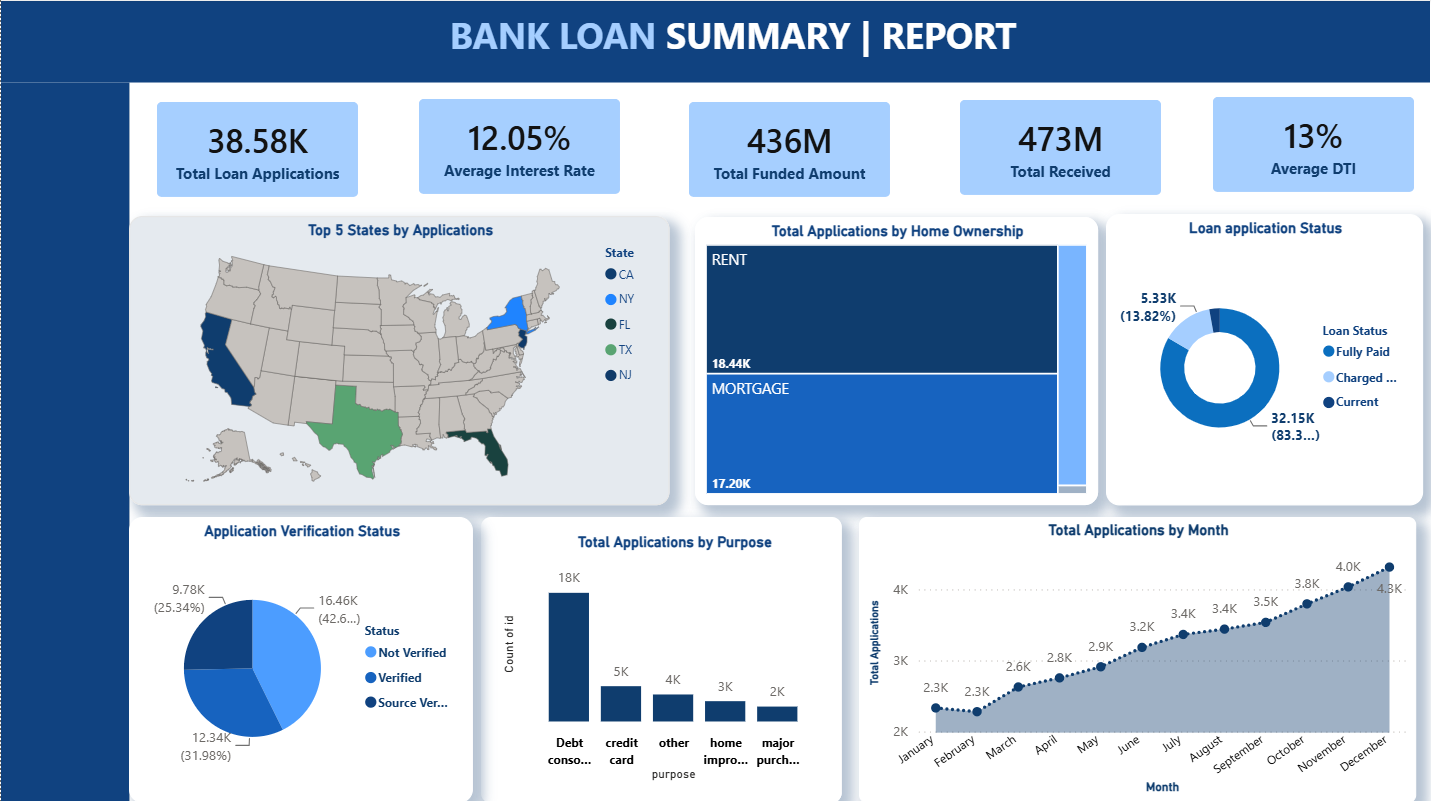

This screenshot's page, from the dashboard's own definition file:
{"tool":"powerbi","page":{"name":"Executive Dashboard","canvas":[1280,720],"ordinal":0},"visuals":[{"type":"shape","box":[0,72.5,114.6,647.5],"z":0},{"type":"shape","box":[0,1.8,1279.7,73.4],"z":1000},{"type":"cardVisual","fields":{"Data":["Count(financial loan data set.id)"]},"box":[122.7,75.2,214,119.1],"z":2000},{"type":"cardVisual","fields":{"Data":["Avg(financial loan data set.int_rate)"]},"box":[356.9,72.1,214,119],"z":3000},{"type":"cardVisual","fields":{"Data":["Sum(financial loan data set.loan_amount)"]},"box":[599.1,75.2,214,119],"z":4000},{"type":"cardVisual","fields":{"Data":["Sum(financial loan data set.total_payment)"]},"box":[841.3,73.7,214,119],"z":5000},{"type":"textbox","box":[278.5,4.5,763,69],"z":6000},{"type":"shapeMap","title":"Top 5 States by Applications","fields":{"Category":["financial loan data set.address_state"],"Value":["Count(financial loan data set.id)"],"Series":["financial loan data set.address_state"]},"box":[114.6,194.3,484.5,258.8],"z":7000},{"type":"treemap","title":"Total Applications by Home Ownership","fields":{"Group":["financial loan data set.home_ownership"],"Values":["CountNonNull(financial loan data set.id)"]},"box":[621.5,195.2,360.9,257.9],"z":8000},{"type":"columnChart","title":"Total Applications by Purpose ","fields":{"Y":["CountNonNull(financial loan data set.id)"],"Category":["financial loan data set.purpose"]},"box":[429.9,463.9,323.3,256.1],"z":9000},{"type":"donutChart","title":"Loan application Status ","fields":{"Category":["financial loan data set.loan_status"],"Y":["Count(financial loan data set.id)"]},"box":[989.6,192.5,283.9,260.6],"z":10000},{"type":"pieChart","title":"Application Verification Status ","fields":{"Y":["Count(financial loan data set.id)"],"Category":["financial loan data set.verification_status"]},"box":[114.6,463.9,308.1,256.1],"z":11000},{"type":"areaChart","title":"Total Applications by Month ","fields":{"Y":["Count(financial loan data set.id)"],"Category":["financial loan data set.issue_date.Variation.Date Hierarchy.Year","financial loan data set.issue_date.Variation.Date Hierarchy.Quarter","financial loan data set.issue_date.Variation.Date Hierarchy.Month","financial loan data set.issue_date.Variation.Date Hierarchy.Day"]},"box":[768.4,463.9,498.8,256.1],"z":12000},{"type":"cardVisual","fields":{"Data":["Avg(financial loan data set.dti)"]},"box":[1068,70.5,214,119],"z":13000}]}

Visuals, with their boxes in screenshot pixels (x1, y1, x2, y2), scaled from the page's 1280x720 canvas onto the 1431x801 screenshot:
shape: box(0, 81, 128, 800)
shape: box(0, 2, 1430, 84)
cardVisual - Count(financial loan data set.id): box(137, 84, 376, 216)
cardVisual - Avg(financial loan data set.int_rate): box(399, 80, 638, 213)
cardVisual - Sum(financial loan data set.loan_amount): box(670, 84, 909, 216)
cardVisual - Sum(financial loan data set.total_payment): box(941, 82, 1180, 214)
textbox: box(311, 5, 1164, 82)
"Top 5 States by Applications" shapeMap: box(128, 216, 670, 504)
"Total Applications by Home Ownership" treemap: box(695, 217, 1098, 504)
"Total Applications by Purpose " columnChart: box(481, 516, 842, 800)
"Loan application Status " donutChart: box(1106, 214, 1424, 504)
"Application Verification Status " pieChart: box(128, 516, 473, 800)
"Total Applications by Month " areaChart: box(859, 516, 1417, 800)
cardVisual - Avg(financial loan data set.dti): box(1194, 78, 1430, 211)
